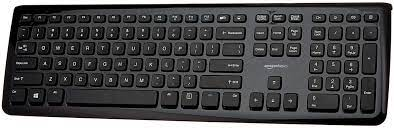keyboard: (4, 1, 391, 123)
